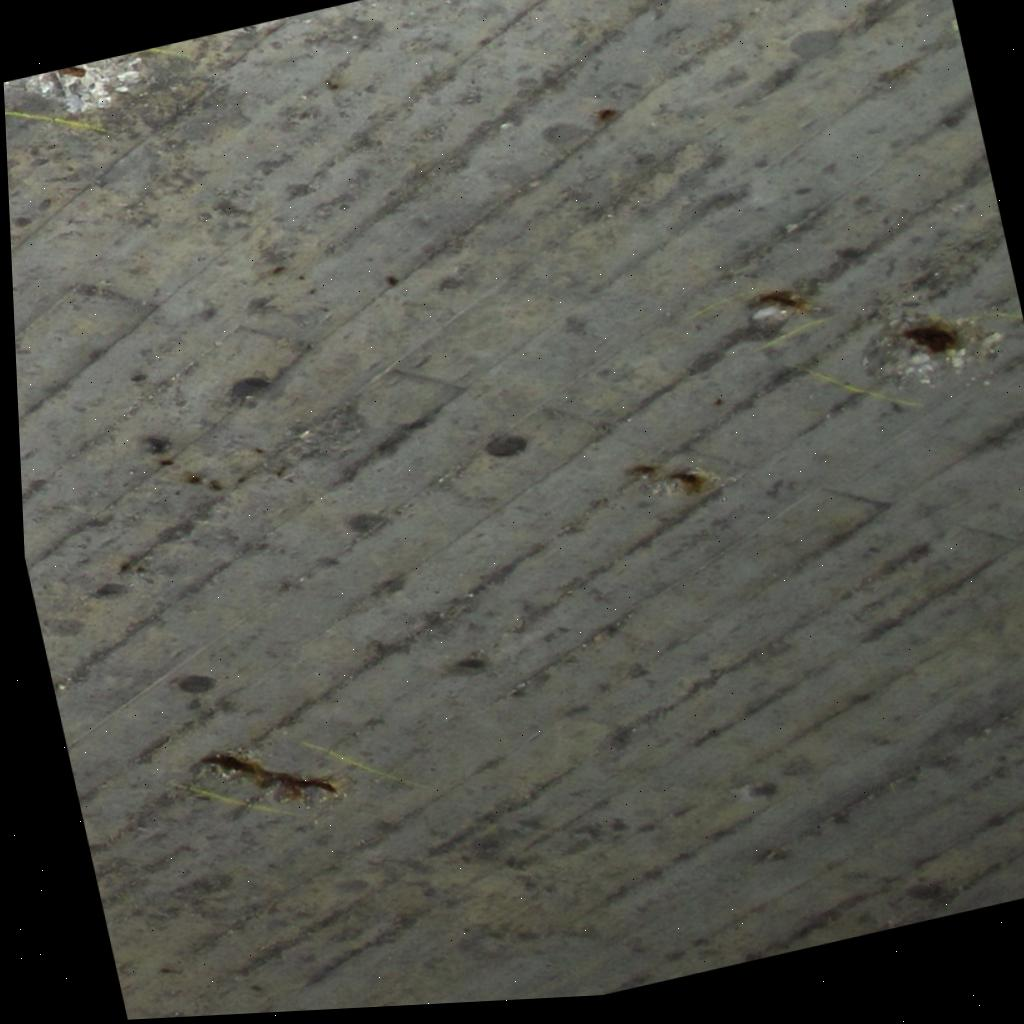exposed_rebar: (202, 752, 337, 797), (898, 317, 959, 353), (667, 469, 712, 494), (756, 290, 809, 311), (631, 464, 661, 477), (56, 65, 86, 77)
spalling: (172, 750, 338, 815), (863, 310, 1004, 385), (4, 53, 142, 114), (629, 464, 717, 496), (751, 289, 809, 332)
